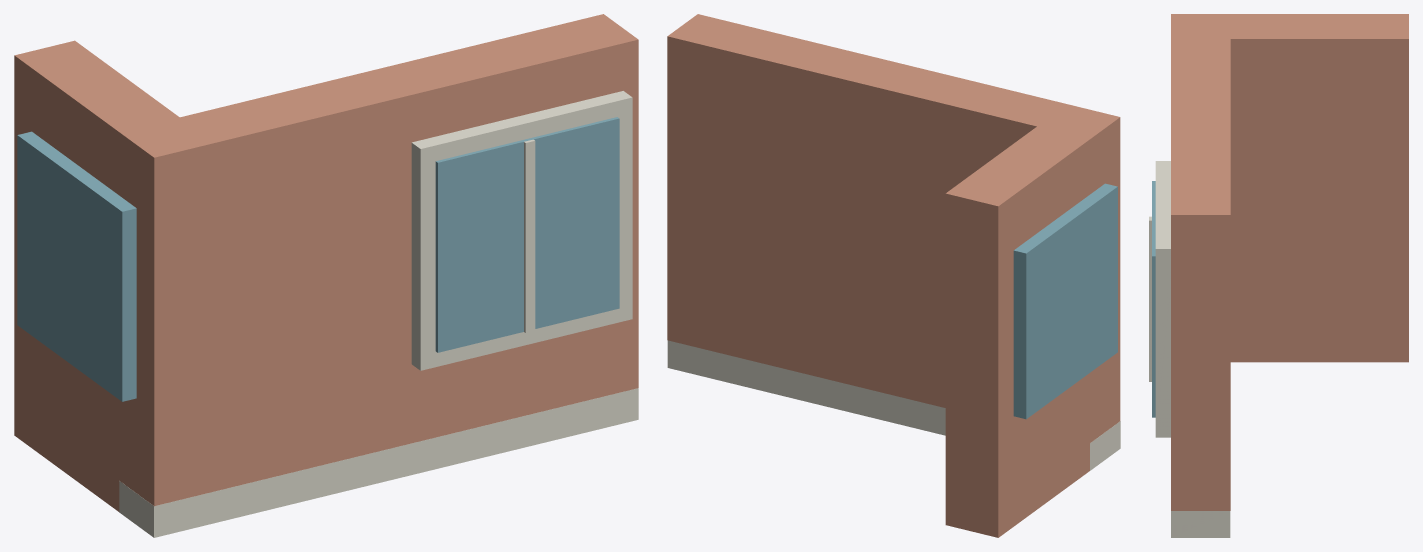
Rendered from voxel-city-districts-corner-window-bay-21dab02a__24808.glb.
3 renders of one model, left to right at view 1: azimuth 30°, elevation 25°; view 2: azimuth 150°, elevation 25°; view 3: azimuth 270°, elevation 25°, orthographic. The views are drawn at different scales.
Visible parts, largest first — view 1: corner-window-bay-brick, corner-window-bay-glass, corner-window-bay-concrete; view 2: corner-window-bay-brick, corner-window-bay-glass, corner-window-bay-concrete; view 3: corner-window-bay-brick, corner-window-bay-concrete, corner-window-bay-glass.
Boxes of the visible parts, bbox=[...] form: corner-window-bay-brick: bbox=[14, 14, 638, 511]; corner-window-bay-glass: bbox=[17, 117, 619, 401]; corner-window-bay-concrete: bbox=[119, 91, 638, 537]; corner-window-bay-brick: bbox=[667, 14, 1120, 537]; corner-window-bay-glass: bbox=[1013, 183, 1117, 419]; corner-window-bay-concrete: bbox=[667, 340, 1120, 470]; corner-window-bay-brick: bbox=[1171, 14, 1408, 510]; corner-window-bay-concrete: bbox=[1149, 161, 1230, 537]; corner-window-bay-glass: bbox=[1152, 181, 1155, 417].
Bounding box in the file's own units: 4.12 × 3 × 2.19.
